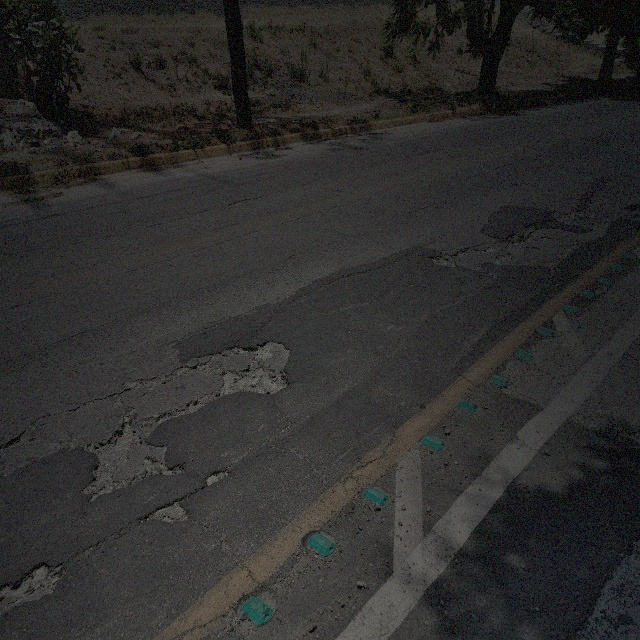pothole: (141, 334, 296, 402), (81, 426, 184, 480), (431, 220, 539, 270), (3, 549, 66, 620), (217, 341, 292, 400), (147, 495, 188, 527), (509, 220, 544, 250), (7, 418, 35, 450), (580, 210, 610, 238), (202, 469, 230, 495), (428, 249, 458, 273), (130, 375, 172, 389), (178, 360, 216, 374)
